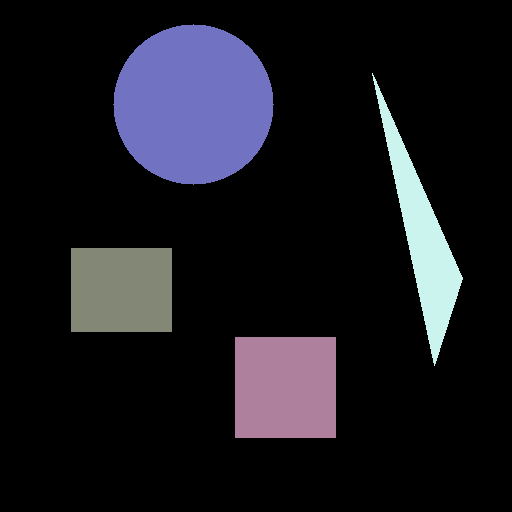circle: (113, 24, 273, 184)
rectangle: (71, 248, 171, 331)
square: (235, 337, 335, 437)
triangle: (372, 73, 462, 365)
